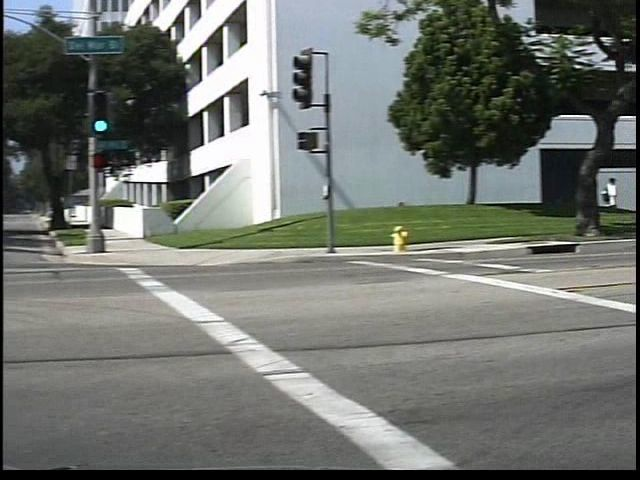person: (610, 171, 631, 233)
